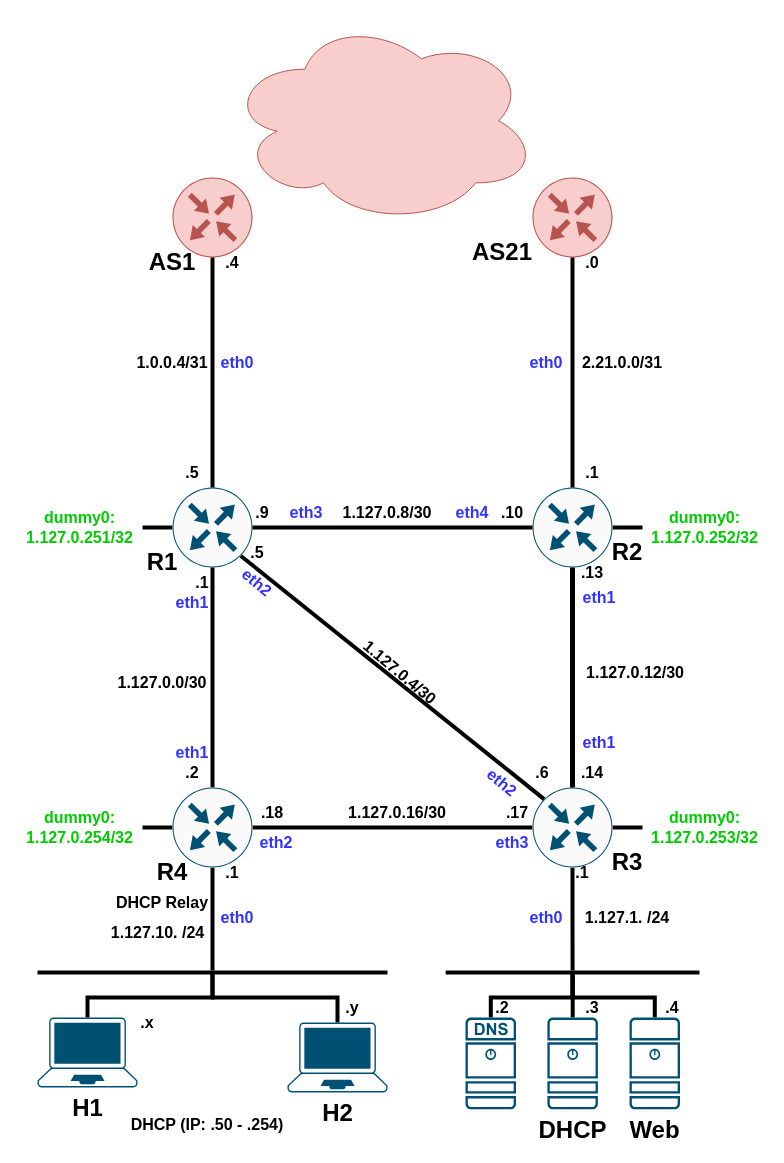
The diagram is 784 pixels wide and 1163 high, and some of its shapes have lost their labels. The shapes that lost their labels are listed below. From the top down, each one's centre as x and y in pixels, then its label:
At point (382, 120): "Internet".
At point (490, 1063): "DNS".
